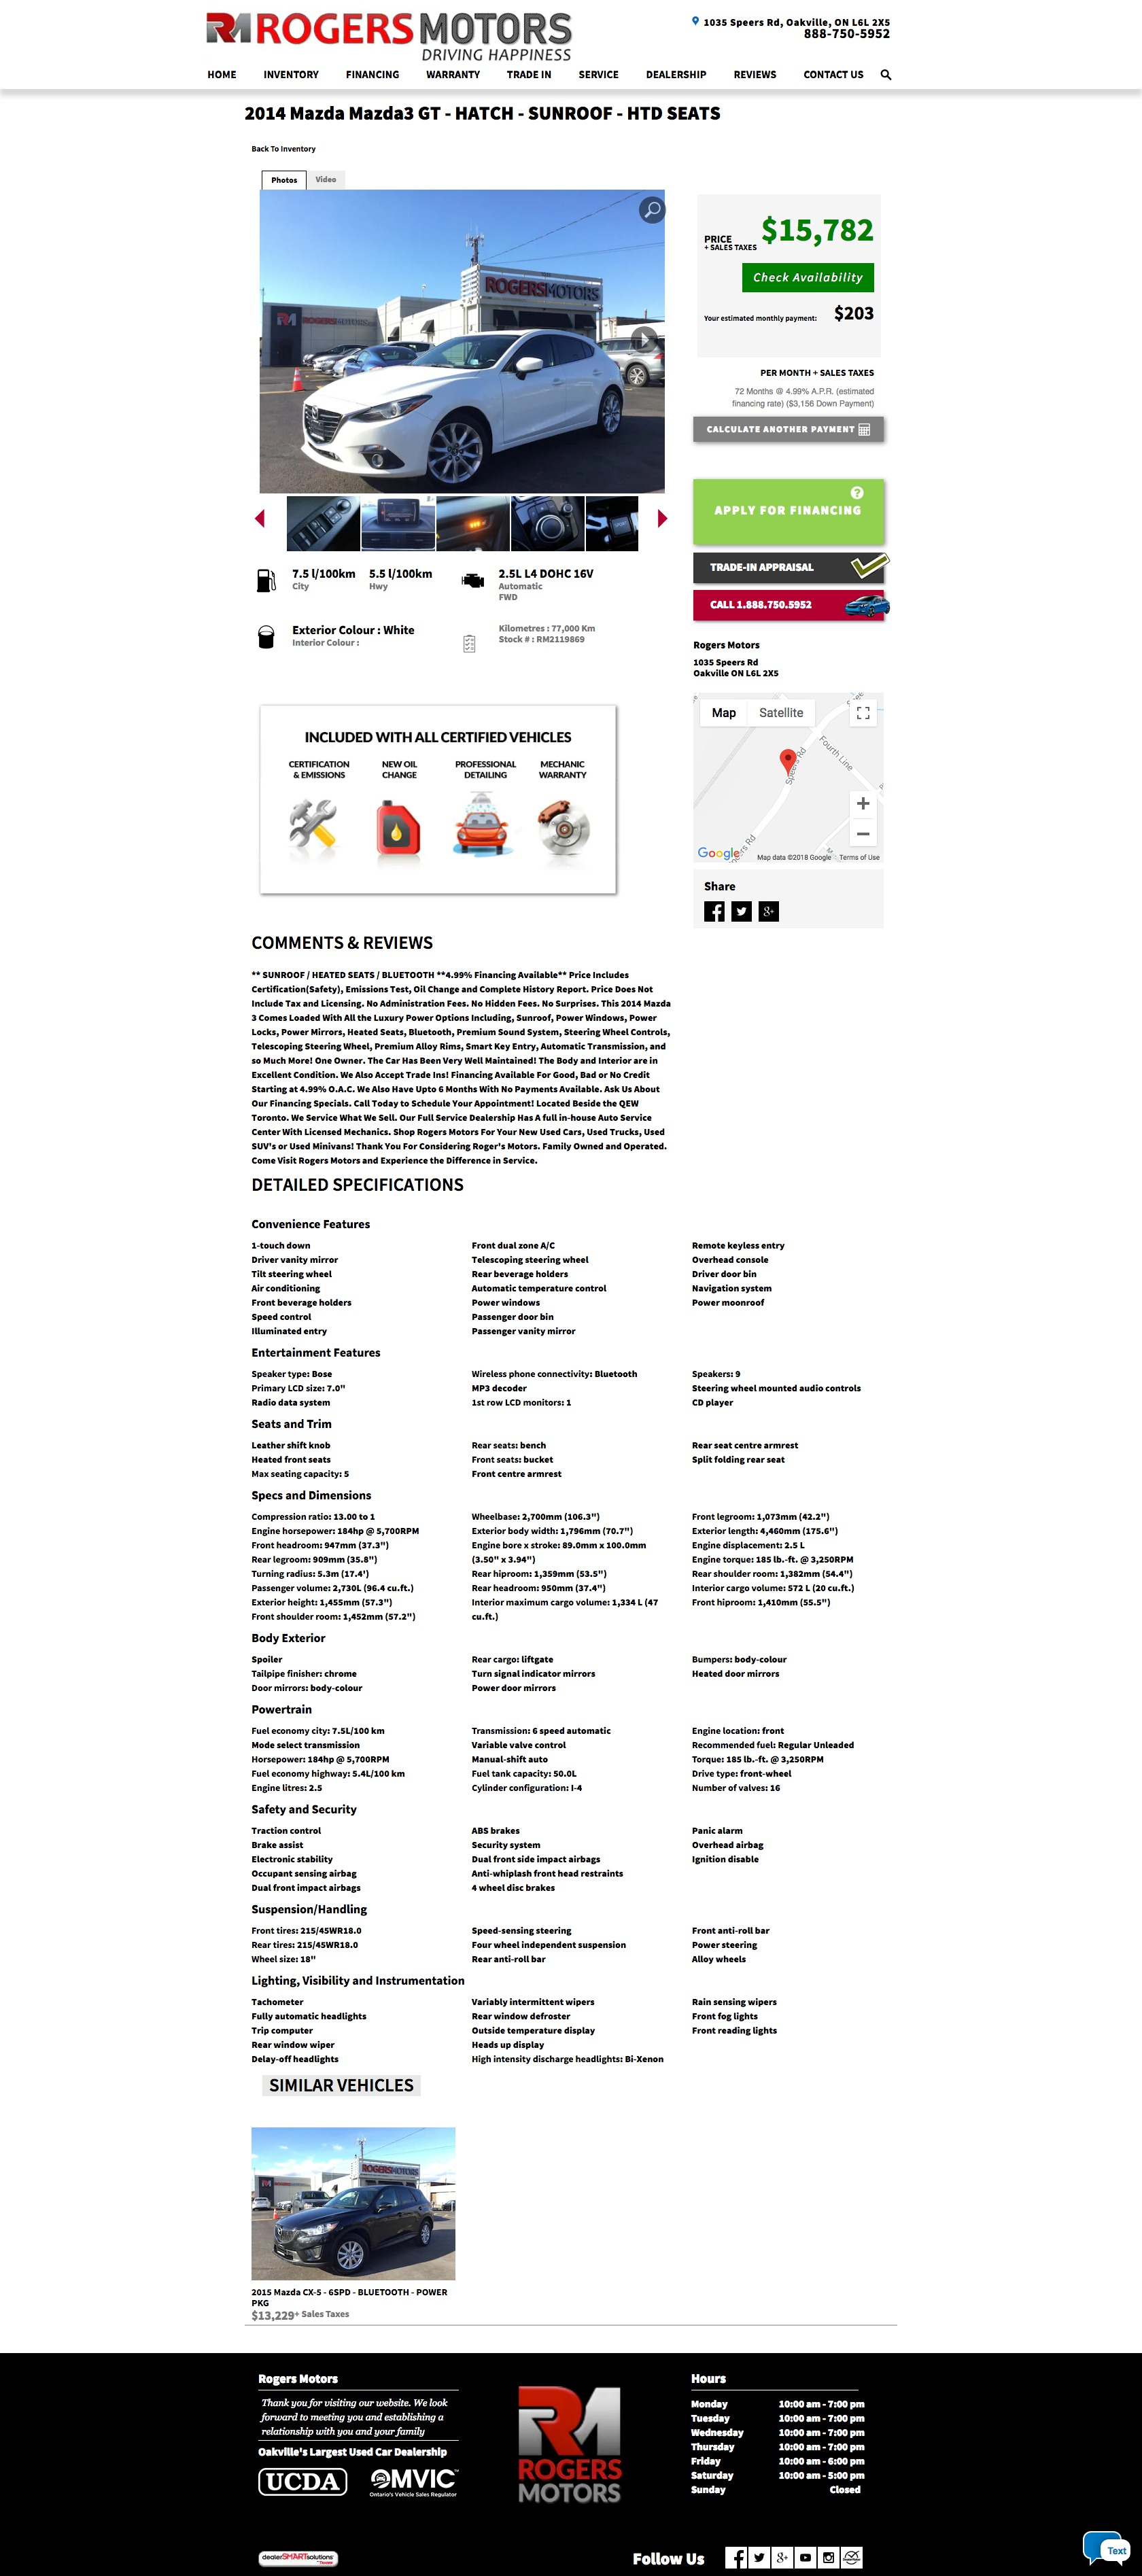car: (657, 509, 669, 529)
